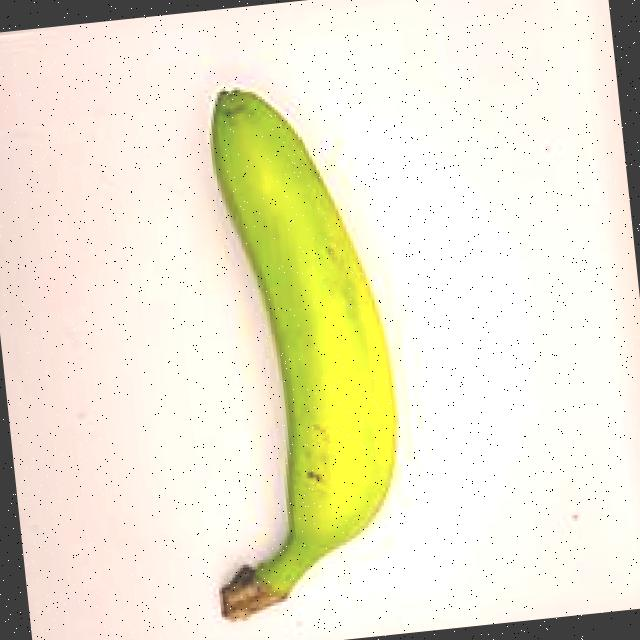Unripe: (84, 38, 466, 640)
